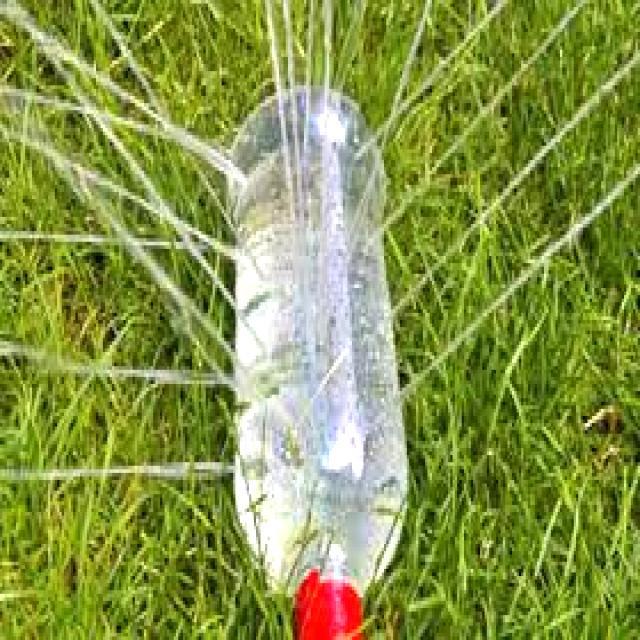Glass: (227, 74, 416, 640)
